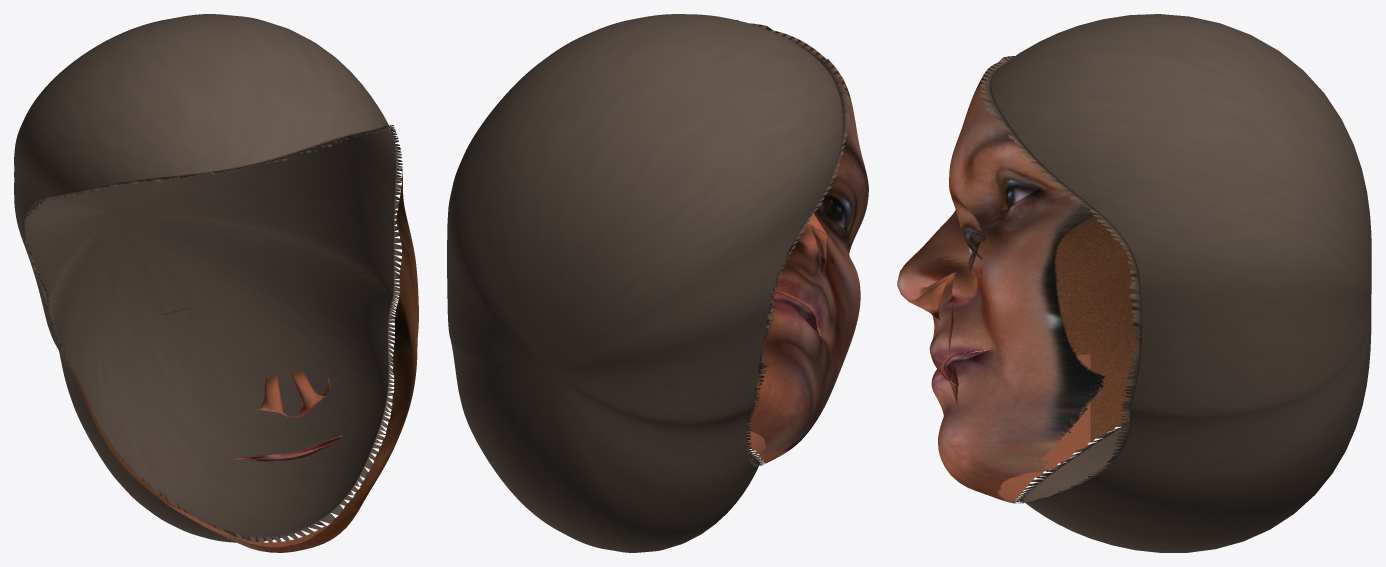
3 renders of one model, left to right at view 1: azimuth 30°, elevation 25°; view 2: azimuth 150°, elevation 25°; view 3: azimuth 270°, elevation 25°, orthographic.
Visible parts, largest first — view 1: head, face; view 2: head, face; view 3: head, face.
Boxes of the visible parts, bbox=[...] form: head: bbox=[14, 14, 402, 542]; face: bbox=[73, 163, 418, 552]; head: bbox=[447, 14, 849, 552]; face: bbox=[736, 20, 868, 464]; head: bbox=[979, 14, 1371, 552]; face: bbox=[897, 52, 1140, 502].
Bounding box in the file's own units: 1.41 × 2 × 1.74.
2 materials, 1 textured.
